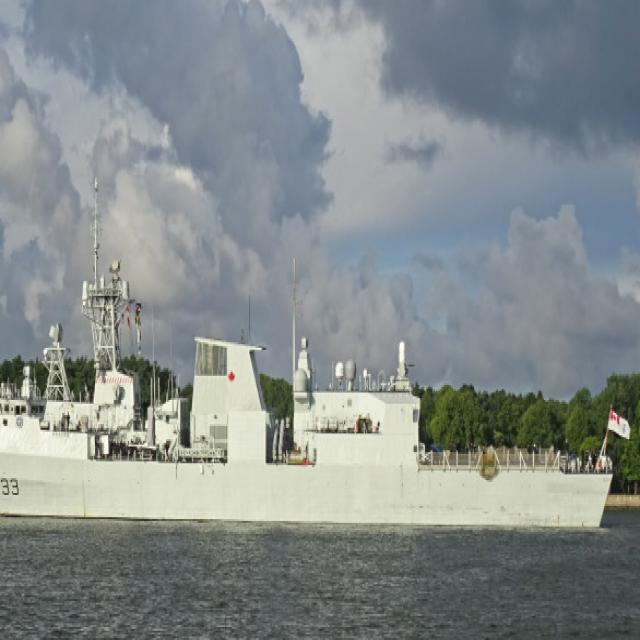Fragata: (1, 189, 615, 522)
